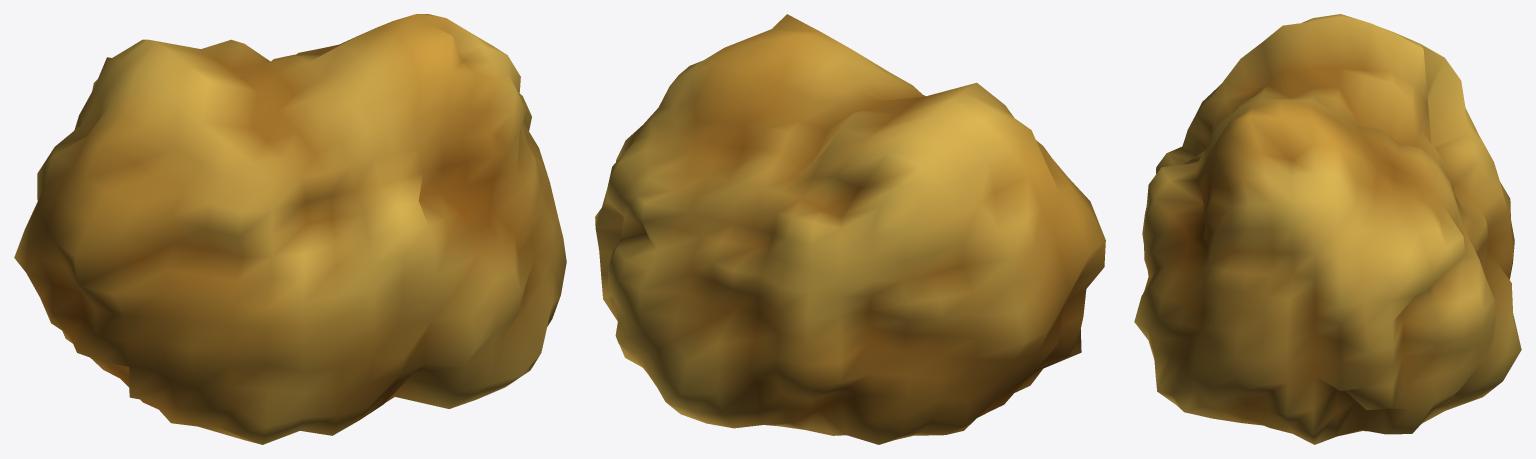
File: tartar_b.glb
3 views of the same model, side by side, from view 1: azimuth 30°, elevation 25°; view 2: azimuth 150°, elevation 25°; view 3: azimuth 270°, elevation 25° (orthographic). The views are drawn at different scales.
Parts seen in each view (by area): view 1: tartar_b; view 2: tartar_b; view 3: tartar_b.
Part boxes in pixels (bbox=[...]): tartar_b: bbox=[14, 14, 566, 444]; tartar_b: bbox=[595, 14, 1105, 444]; tartar_b: bbox=[1134, 14, 1521, 444].
Bounding box in the file's own units: 0.34 × 0.2191 × 0.26.
